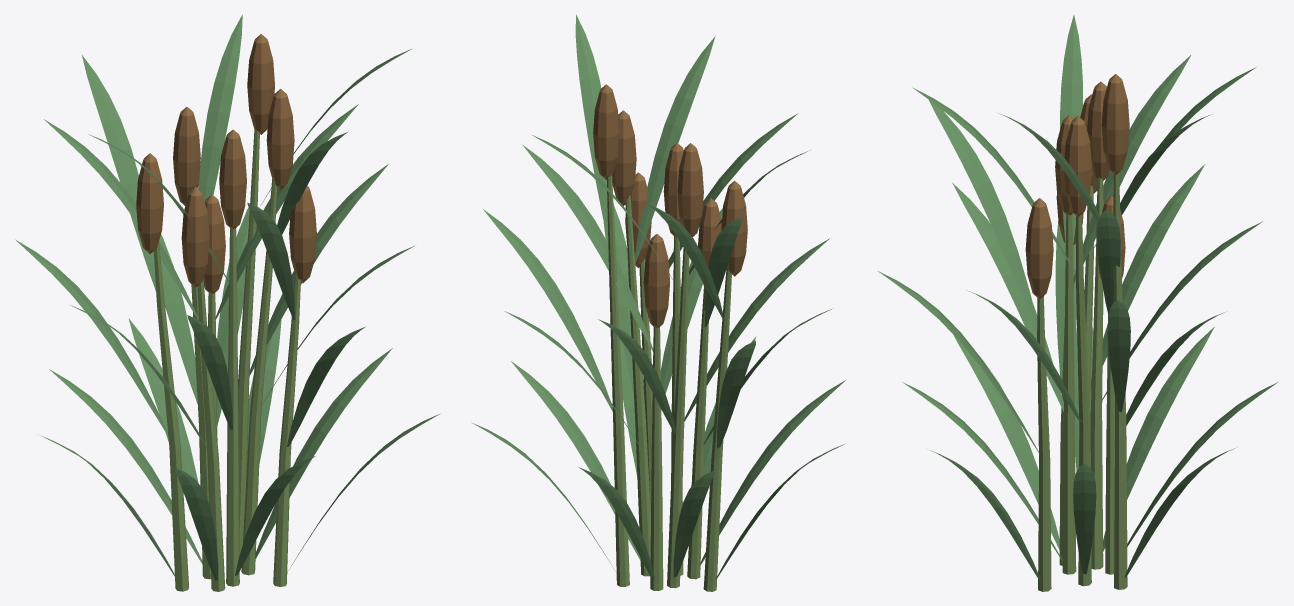
File: spring-cattail.glb
3 renders of one model, left to right at view 1: azimuth 30°, elevation 25°; view 2: azimuth 150°, elevation 25°; view 3: azimuth 270°, elevation 25°, orthographic. The views are drawn at different scales.
Parts seen in each view (by area): view 1: spring-cattail; view 2: spring-cattail; view 3: spring-cattail.
Part boxes in pixels (left/top/right/bottom): spring-cattail: left=15, top=14, right=440, bottom=591; spring-cattail: left=471, top=14, right=846, bottom=591; spring-cattail: left=878, top=15, right=1277, bottom=591.
Size of the model in its own units: 0.5787 by 0.7923 by 0.5458.
